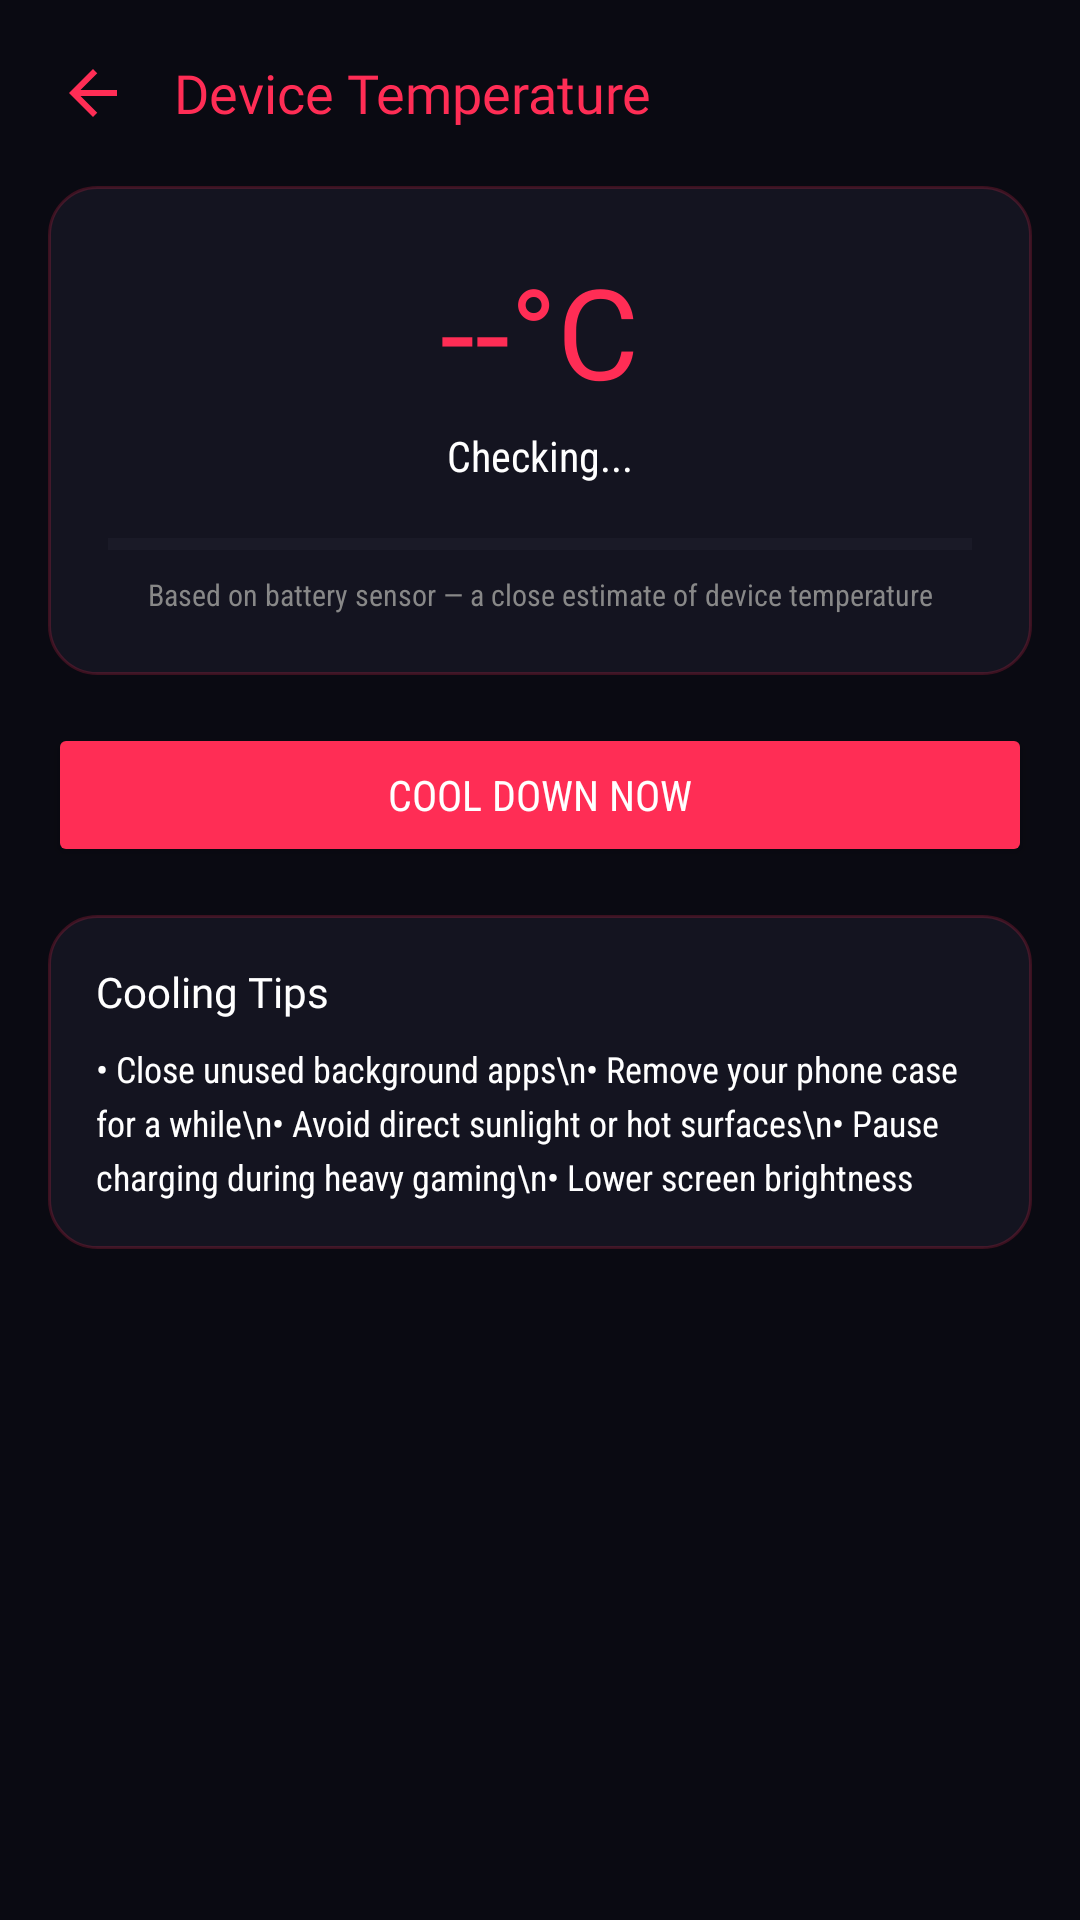

Icons on this 1080px×1920px Android screen, each with the point to tap as point (x, y):
Back: point (93, 93)
